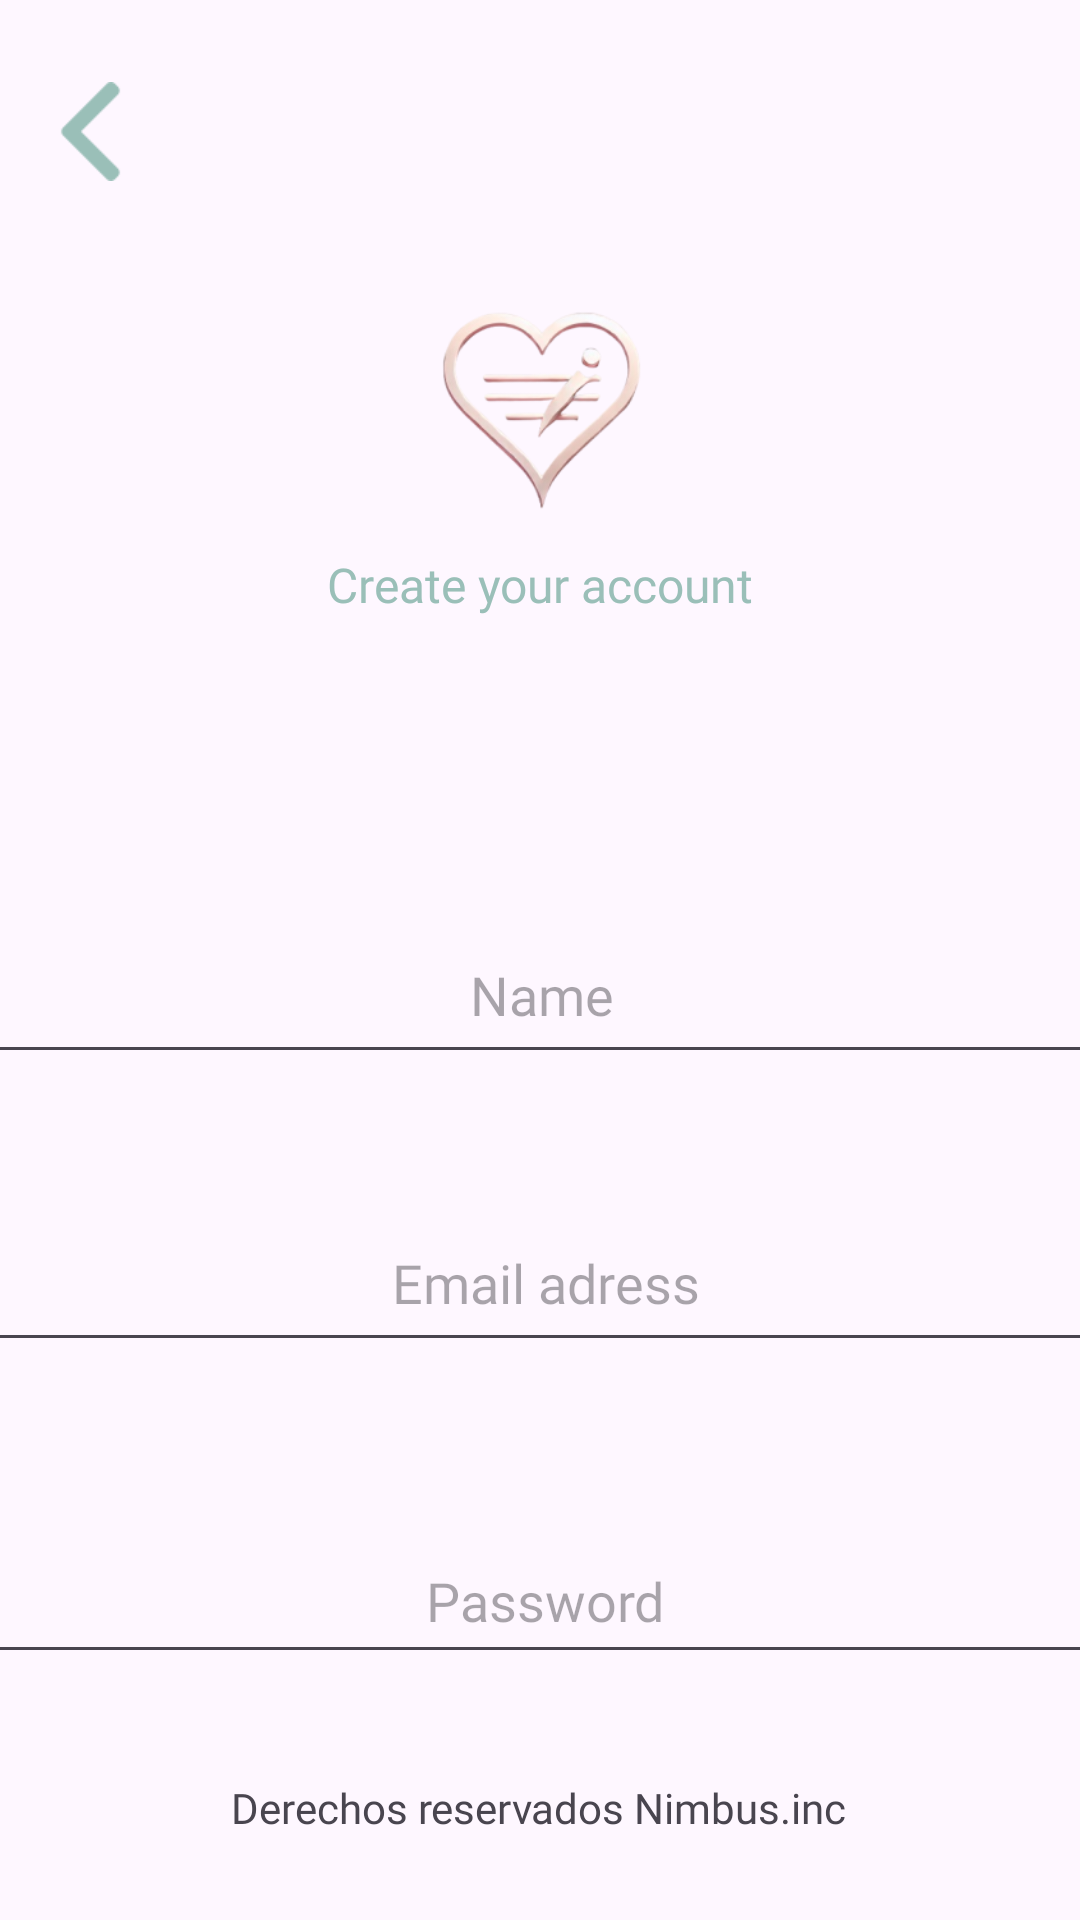

Where icons sit on this 1080w x 1920h app screen, as (x1, y1, x2, y2):
volver: (61, 82, 120, 181)
